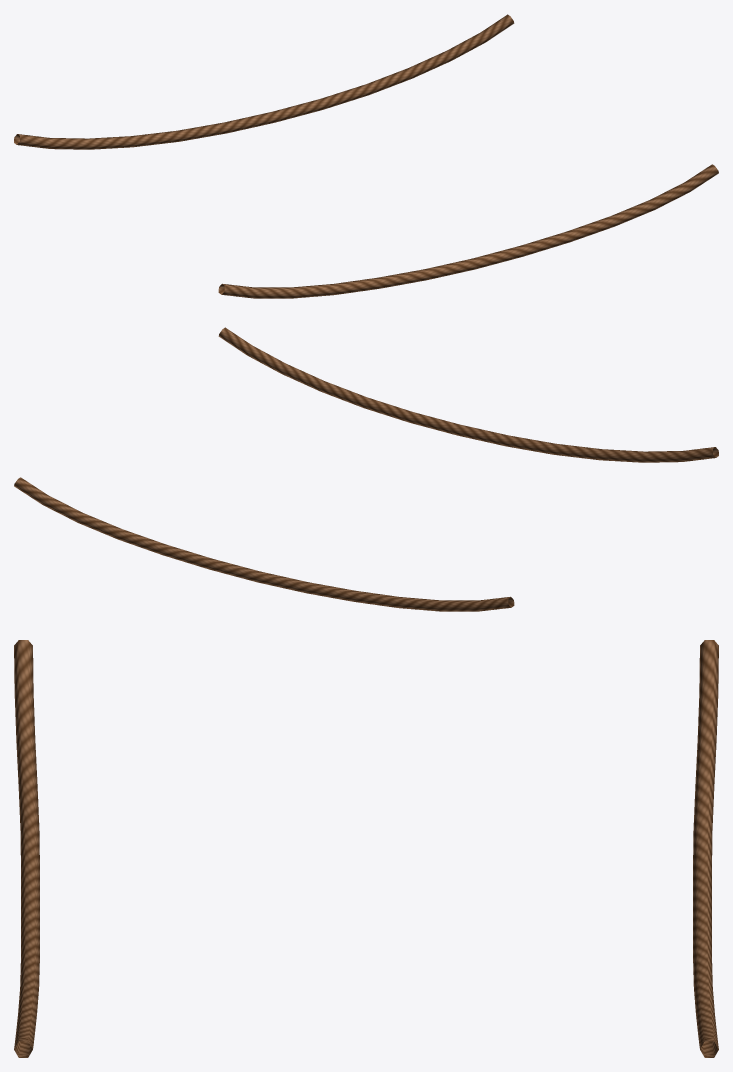
File: Cordas_Pier_A.fbx
The picture shows the model from 3 angles, top to bottom: view 1: azimuth 30°, elevation 25°; view 2: azimuth 150°, elevation 25°; view 3: azimuth 270°, elevation 25°; orthographic projection. The views are drawn at different scales.
Visible parts, largest first — view 1: BézierCurve; view 2: BézierCurve; view 3: BézierCurve.
Boxes of the visible parts, x1=… form: BézierCurve: x1=14, y1=14, x2=718, y2=298; BézierCurve: x1=14, y1=327, x2=718, y2=611; BézierCurve: x1=14, y1=640, x2=718, y2=1057.
Size of the model in its own units: 507 by 45.6 by 371.
